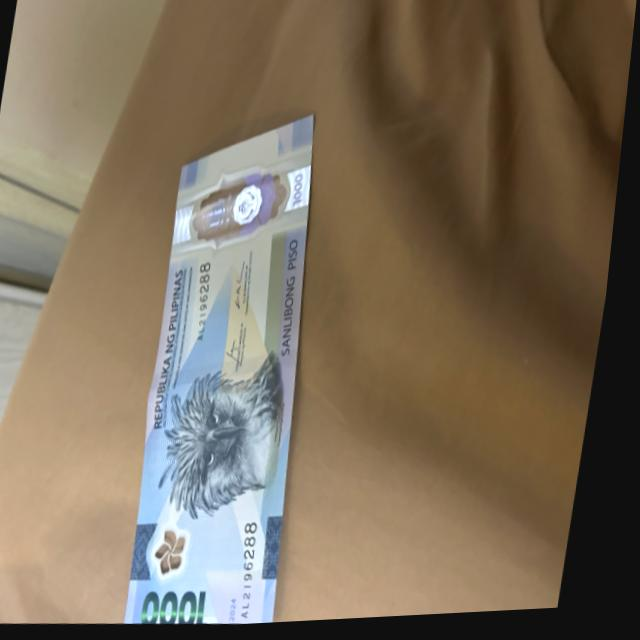clear_window: (189, 160, 294, 257)
eagle: (162, 365, 309, 523)
sampaguita: (162, 528, 203, 587)
